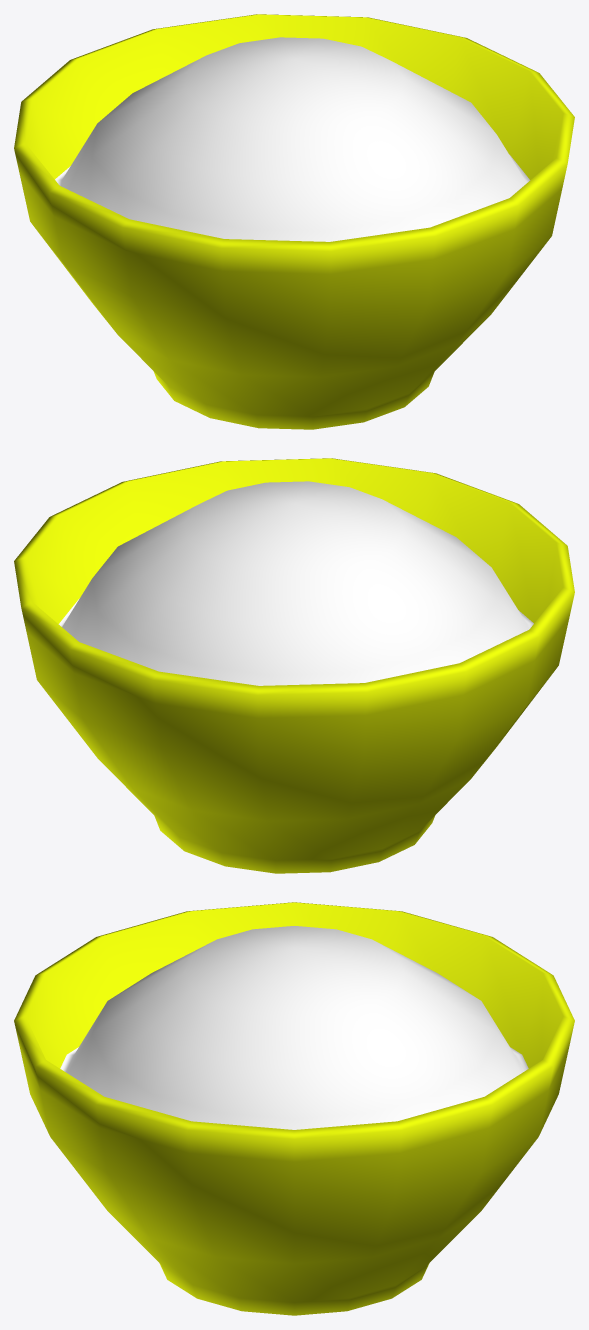
Rendered from Sugar.fbx.
3 views of the same model, one above another, from view 1: azimuth 30°, elevation 25°; view 2: azimuth 150°, elevation 25°; view 3: azimuth 270°, elevation 25° (orthographic).
Visible parts, largest first — view 1: Sphere; view 2: Sphere; view 3: Sphere.
Boxes of the visible parts, x1,y1,x2,y2 form: Sphere: (14,14,574,429); Sphere: (14,458,574,873); Sphere: (14,902,574,1315).
Size of the model in its own units: 267 by 162 by 267.
1 material, 1 textured.
